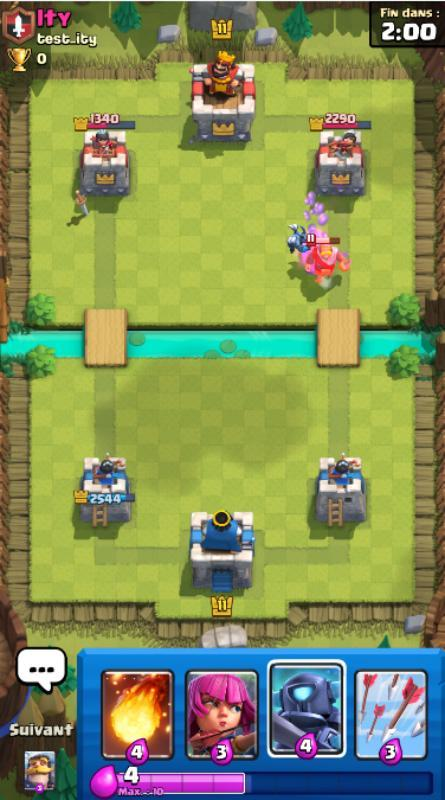chevalier: (304, 234, 352, 285)
gargouille: (285, 224, 311, 254)
